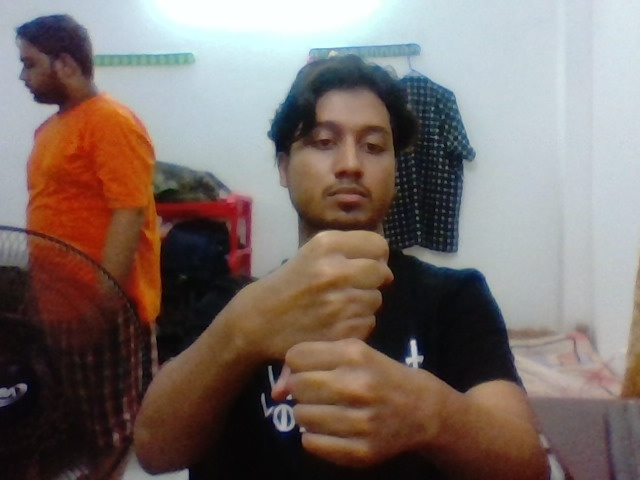G: (259, 224, 443, 467)
